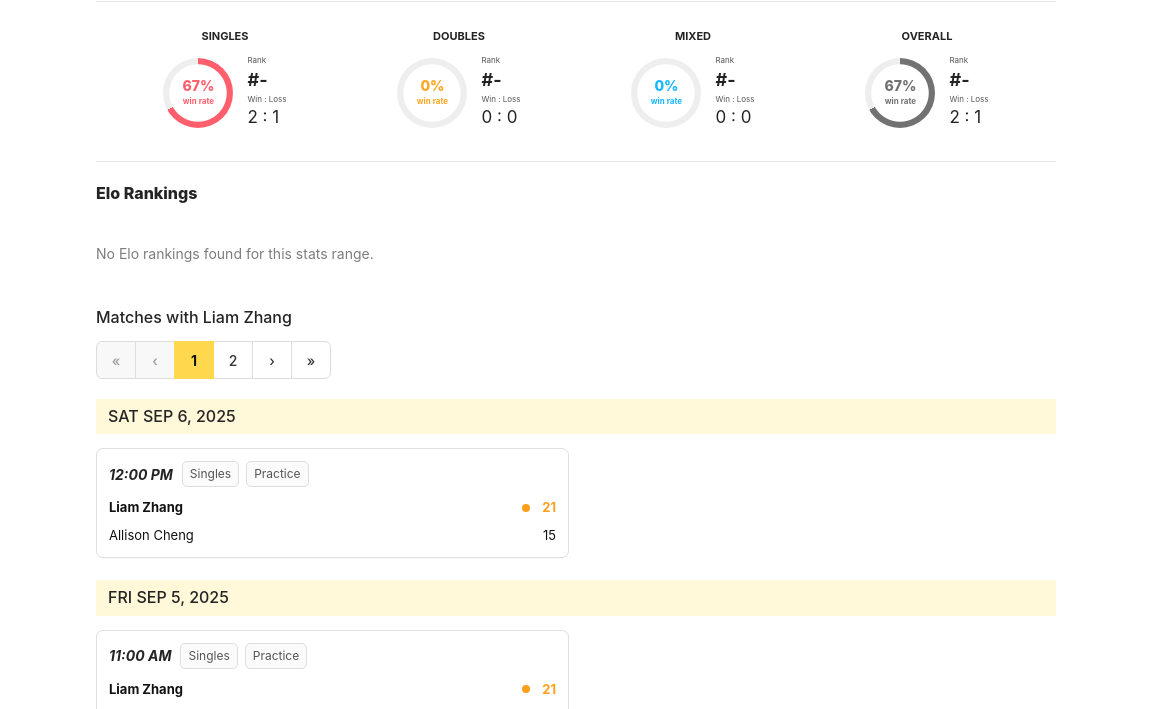
Test: changing profile stats season resets match pagination to page one
(page scrolled)
Expected: the navigation bar named "Profile match pages" is shown, [96,341,331,379]
Click the button "2".
click(233, 360)  # box [213,341,253,379]
(page scrolled)
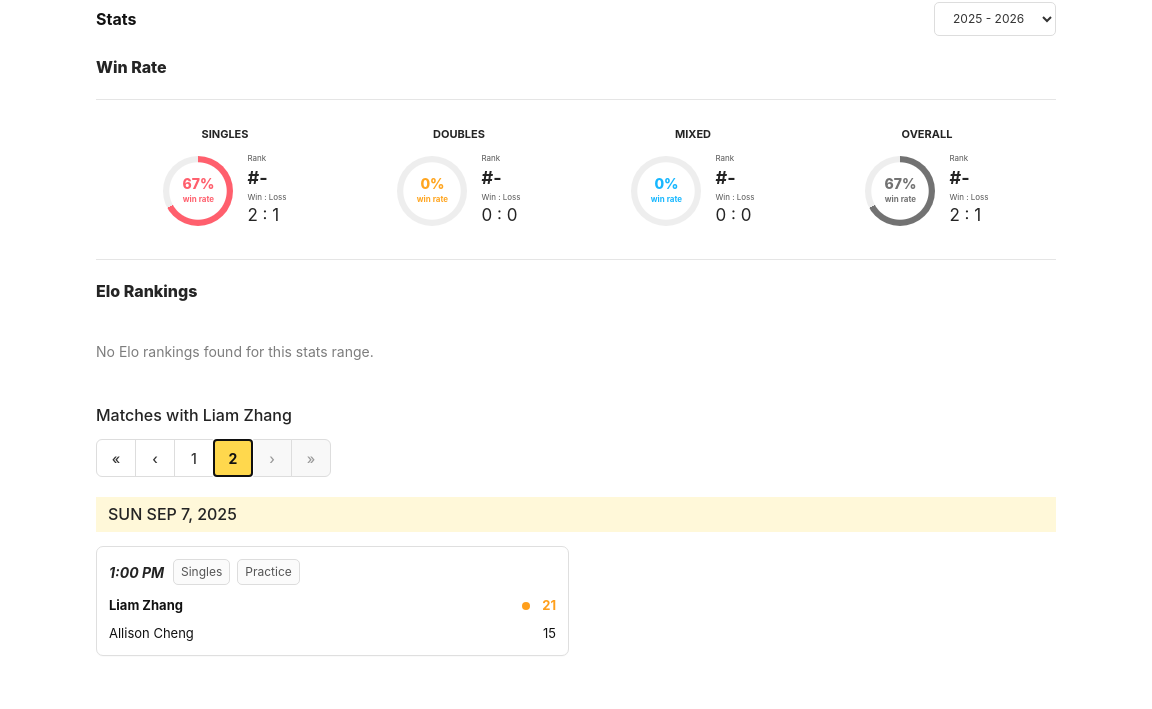
Expected: the text "1:00 PM" is shown, [109,562,164,583]
Select "All Time" in the dropdown named "Stats season" at (995, 19), box [934,2,1056,36]
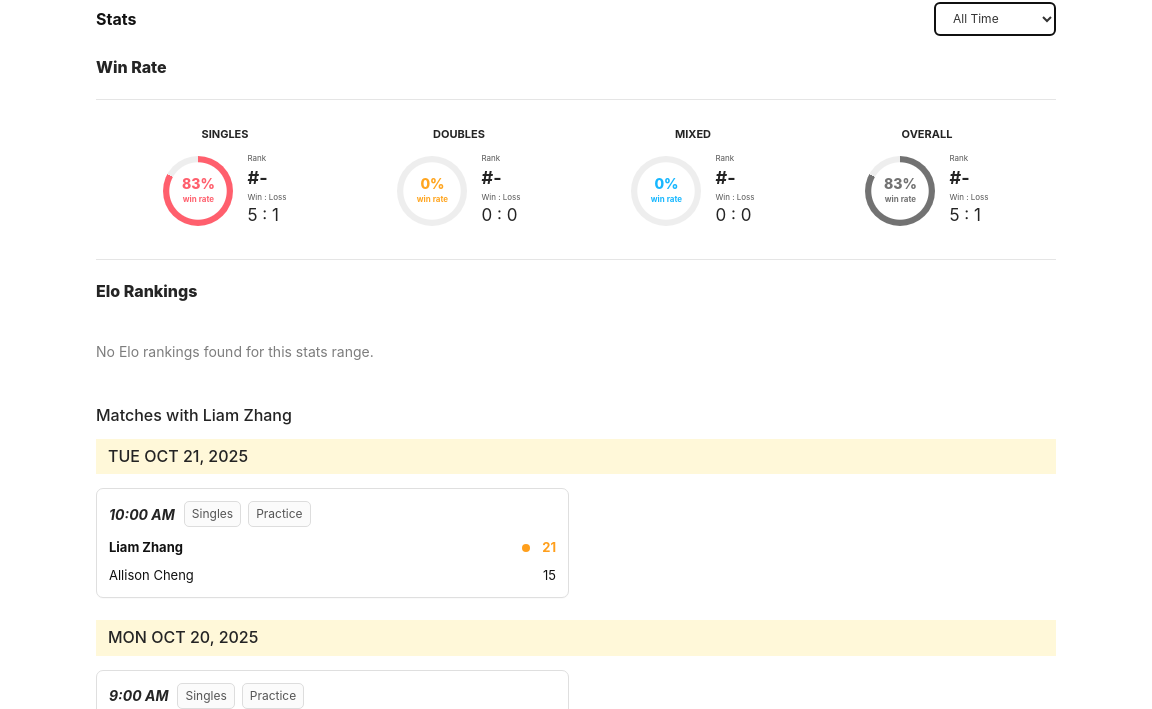
Expected: the text "9:00 AM" is shown, [109,685,168,706]
Expected: the text "1:00 PM" is gone
